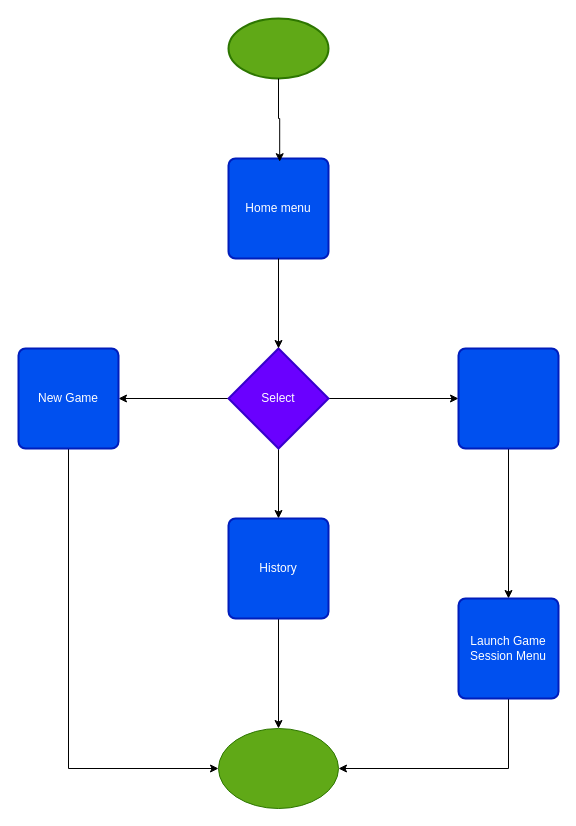
Image size: 576x826. Some labels were removed from this diagram. Here are the shapes that lost their labels. From the top down, the centre of each, then its label:
the point at 278,48: Start
the point at 508,398: Continue Game
the point at 278,768: End
